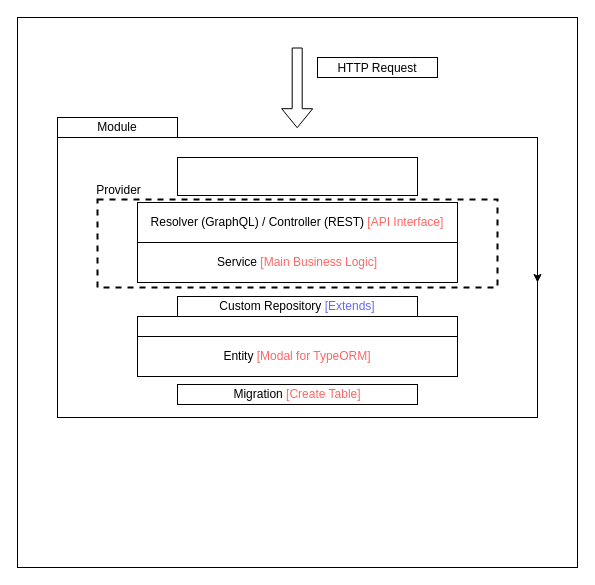
Image size: 595x585. Some labels were removed from this diagram. The box of each missing label's shape, as (x1, y1, x2, y2) in pixels:
Data Transfer Object (DTO) [Validation + Formatting]: (176, 156, 418, 196)
Repository [Provided by TypeORM]: (136, 316, 458, 336)
